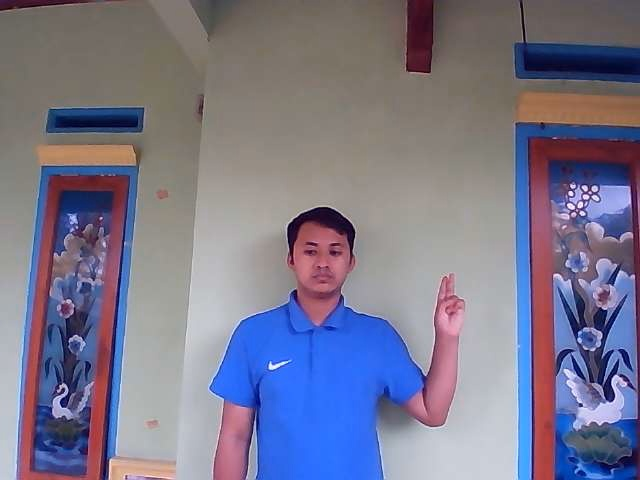U: (433, 272, 466, 337)
